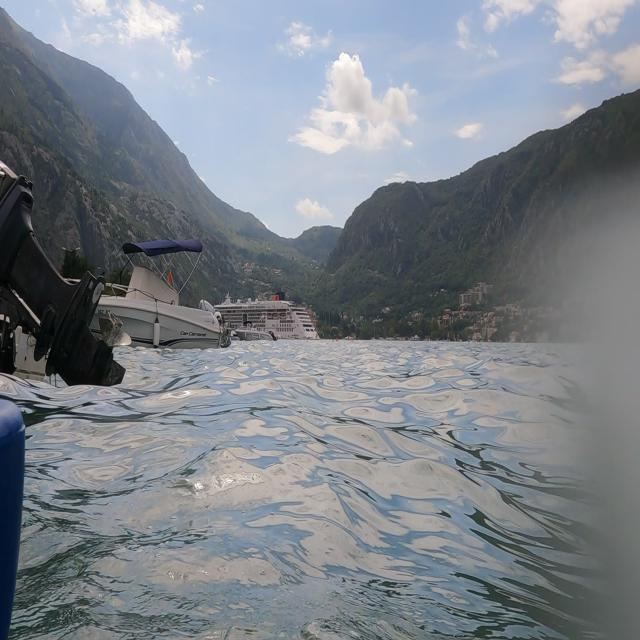boat: (90, 235, 232, 353), (214, 286, 329, 356)
